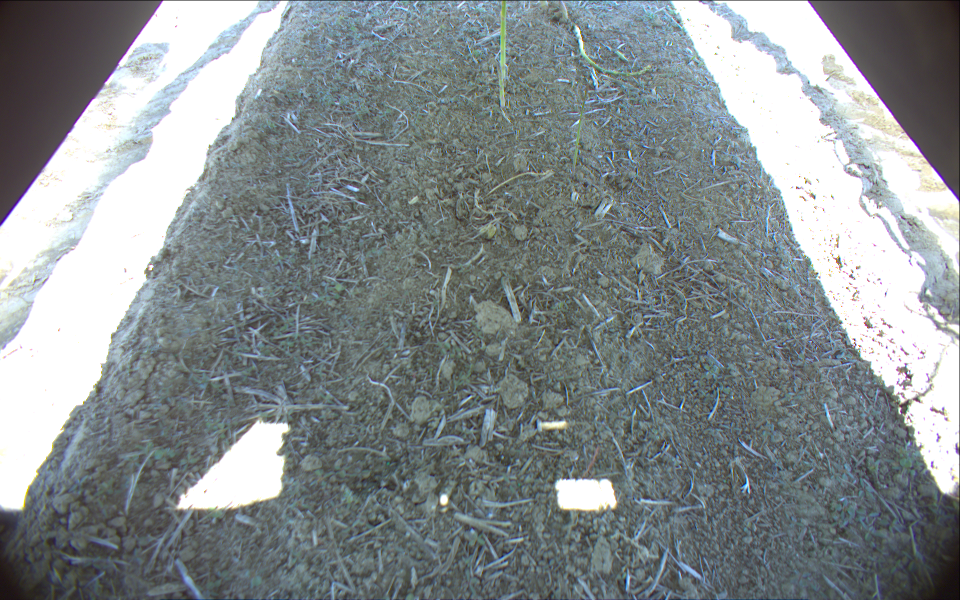aspa: (495, 1, 509, 110)
